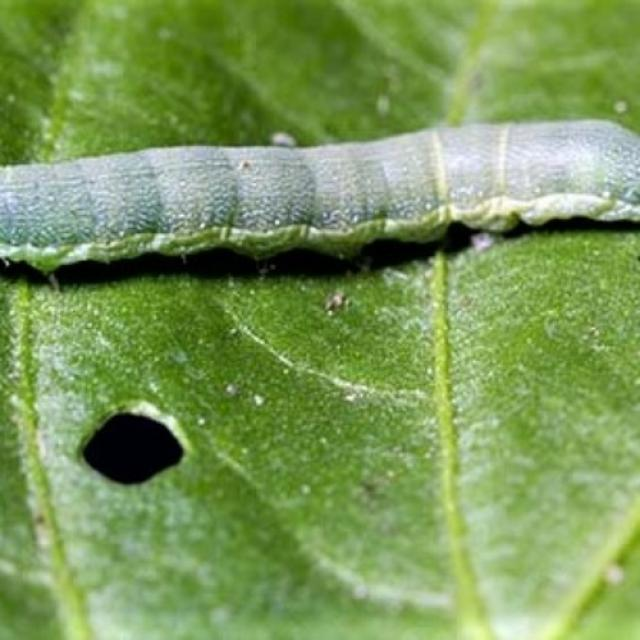armyworm: (0, 114, 639, 279)
